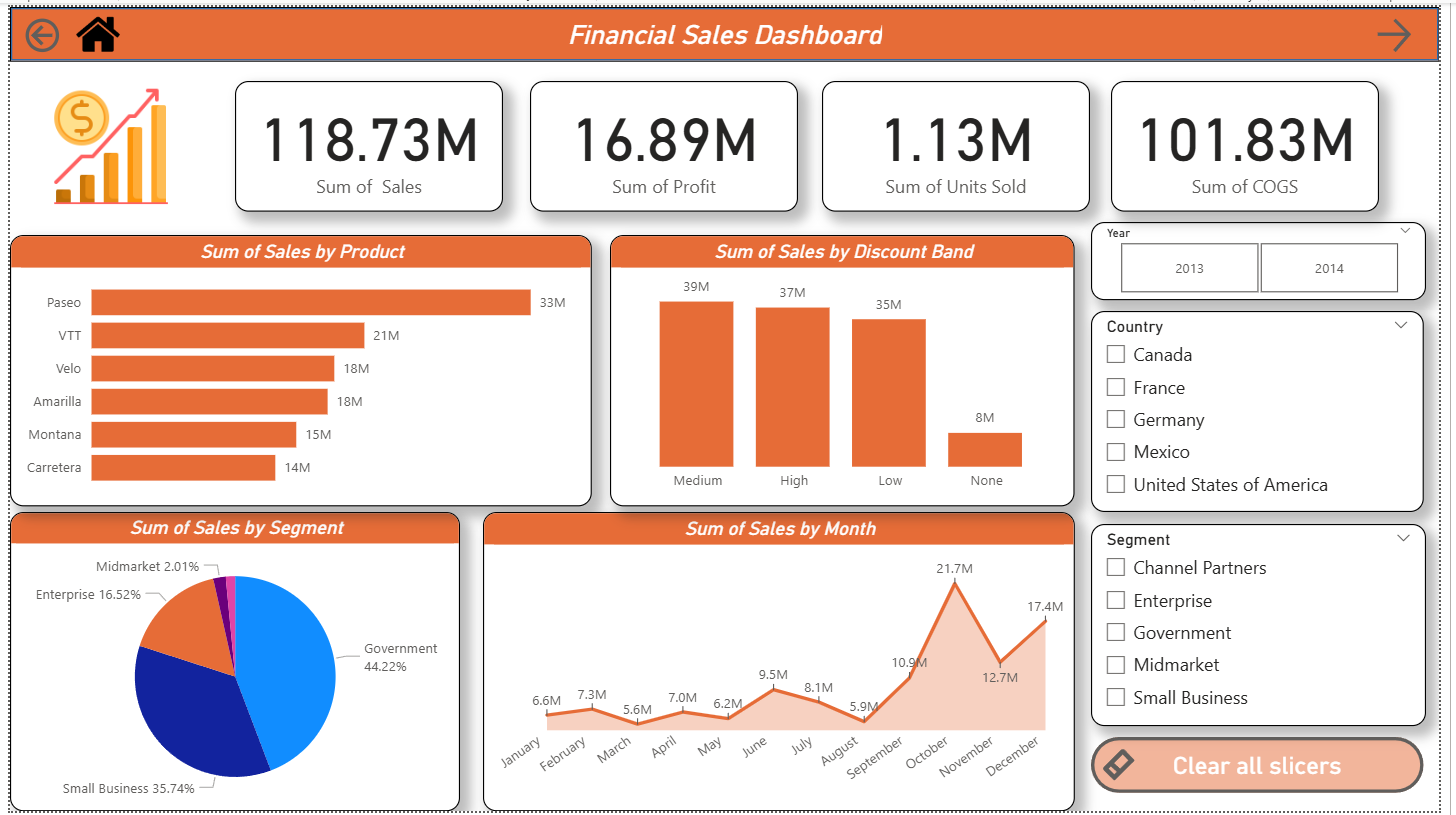

The dashboard page shown, as its layout file describes it:
{"tool":"powerbi","page":{"name":"Sales","canvas":[1280,720],"ordinal":1},"visuals":[{"type":"card","fields":{"Values":["Sum(financials.COGS)"]},"box":[985.6,66.2,240,116.7],"z":0,"group":"g1"},{"type":"pieChart","fields":{"Category":["financials.Segment"],"Y":["Sum(financials. Sales)"]},"box":[0,452.2,403.3,267.8],"z":0},{"type":"card","fields":{"Values":["Sum(financials. Sales)"]},"box":[201.2,66.2,240,116.7],"z":1000,"group":"g1"},{"type":"clusteredBarChart","fields":{"Category":["financials.Product"],"Y":["Sum(financials. Sales)"]},"box":[0,203.8,521.2,242.5],"z":1000},{"type":"card","fields":{"Values":["Sum(financials.Profit)"]},"box":[465.6,66.2,240,116.7],"z":2000,"group":"g1"},{"type":"lineChart","fields":{"Category":["financials.Date.Variation.Date Hierarchy.Month"],"Y":["Sum(financials. Sales)"]},"box":[423.8,452.5,530,267.5],"z":2000},{"type":"shape","box":[0,0,1280,48.8],"z":3000},{"type":"card","fields":{"Values":["Sum(financials.Units Sold)"]},"box":[726.8,66.2,240,116.7],"z":3000,"group":"g1"},{"type":"columnChart","fields":{"Category":["financials.Discount Band"],"Y":["Sum(financials. Sales)"]},"box":[537.5,203.8,416.2,242.5],"z":4000},{"type":"slicer","fields":{"Values":["financials.Date.Variation.Date Hierarchy.Year"]},"box":[967.8,192.2,300,70],"z":5000},{"type":"slicer","fields":{"Values":["financials.Country"]},"box":[967.8,272.2,297.8,180],"z":6000},{"type":"slicer","fields":{"Values":["financials.Segment"]},"box":[967.8,463.3,300,181.1],"z":7000},{"type":"actionButton","box":[967.8,653.3,297.8,50],"z":8000},{"type":"group","id":"g1","title":"Group 1","box":[201.2,66.2,1023.8,117.5],"z":9000},{"type":"image","box":[0,67.5,181.2,116.2],"z":10000},{"type":"actionButton","box":[8.8,5,40,40],"z":11000},{"type":"image","box":[48.8,0,60,48.8],"z":12000},{"type":"actionButton","box":[1218.8,5,46.2,40],"z":13000}]}

Visuals, with their boxes in screenshot pixels (x1, y1, x2, y2), scaled from the page's 1280x720 canvas onto the 1456x815 screenshot:
card - Sum(financials.COGS): bbox(1121, 75, 1394, 207)
pieChart - financials.Segment x Sum(financials. Sales): bbox(0, 512, 459, 814)
card - Sum(financials. Sales): bbox(229, 75, 502, 207)
clusteredBarChart - financials.Product x Sum(financials. Sales): bbox(0, 231, 593, 505)
card - Sum(financials.Profit): bbox(530, 75, 803, 207)
lineChart - financials.Date.Variation.Date Hierarchy.Month x Sum(financials. Sales): bbox(482, 512, 1085, 814)
shape: bbox(0, 0, 1455, 55)
card - Sum(financials.Units Sold): bbox(827, 75, 1100, 207)
columnChart - financials.Discount Band x Sum(financials. Sales): bbox(611, 231, 1085, 505)
slicer - financials.Date.Variation.Date Hierarchy.Year: bbox(1101, 218, 1442, 297)
slicer - financials.Country: bbox(1101, 308, 1440, 512)
slicer - financials.Segment: bbox(1101, 524, 1442, 729)
actionButton: bbox(1101, 739, 1440, 796)
"Group 1" group: bbox(229, 75, 1393, 208)
image: bbox(0, 76, 206, 208)
actionButton: bbox(10, 6, 56, 51)
image: bbox(56, 0, 124, 55)
actionButton: bbox(1386, 6, 1439, 51)
